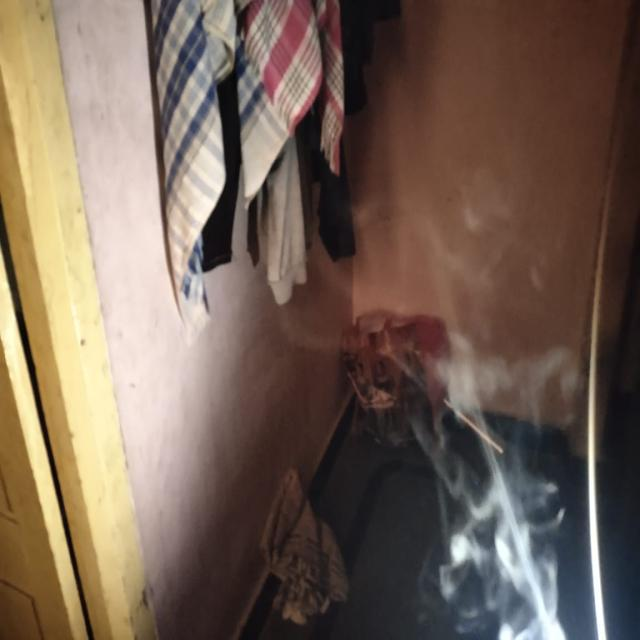fire: (392, 169, 562, 632)
